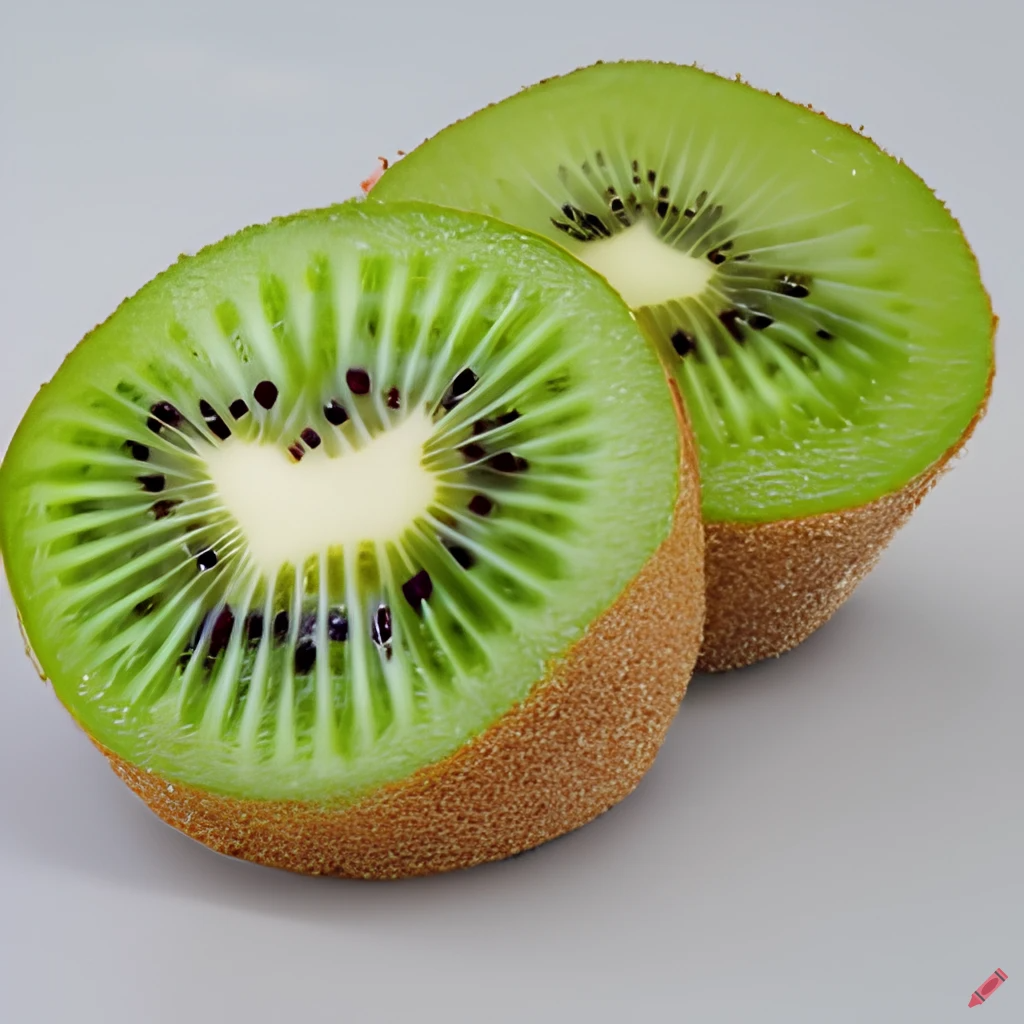Kiwi: (0, 212, 710, 885), (350, 61, 983, 688)
